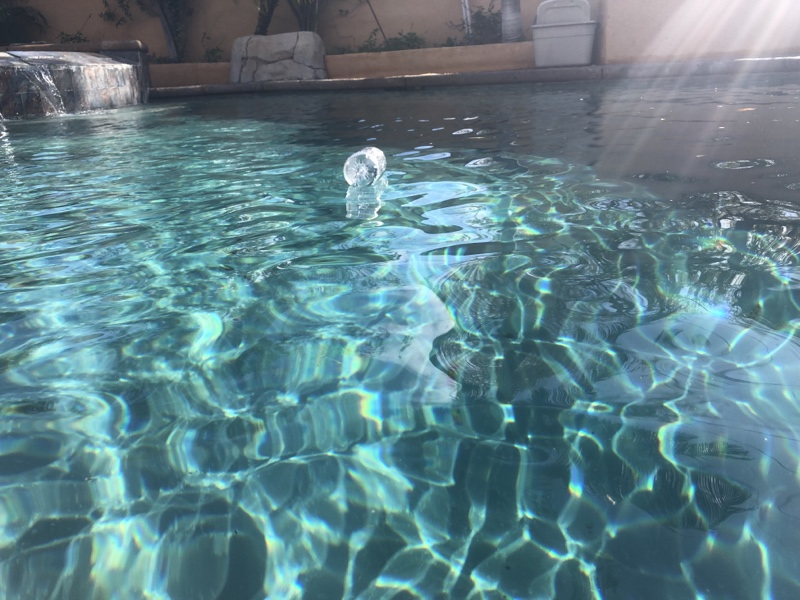Plastic Bottle: (342, 143, 386, 192)
